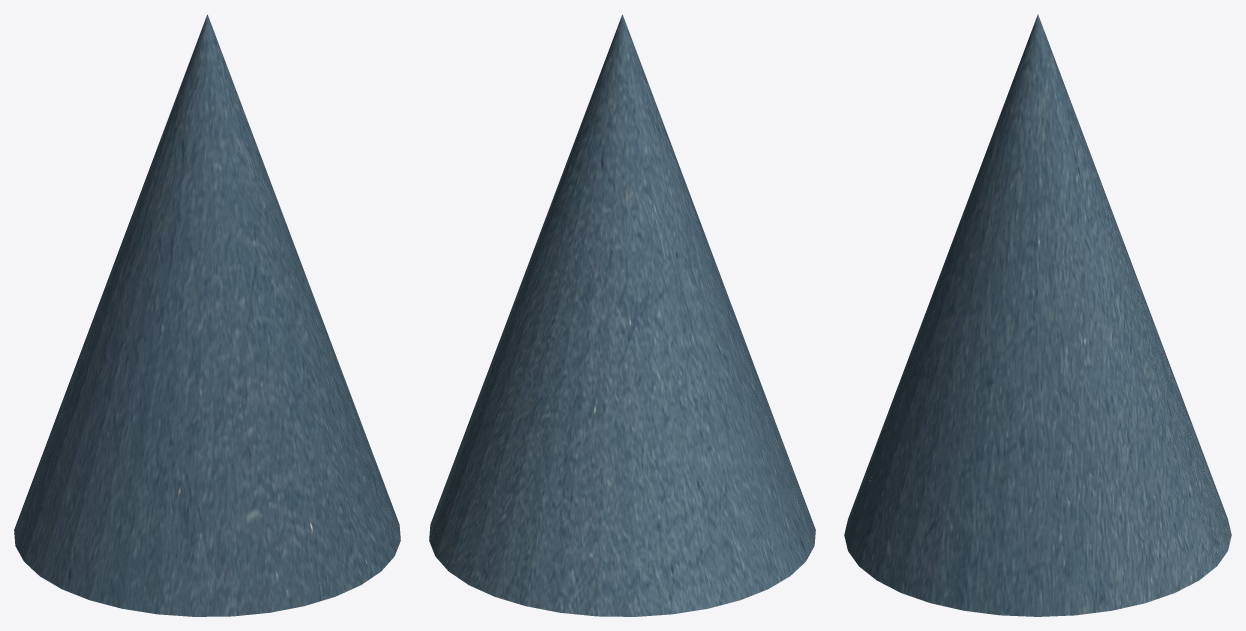
The model's file is cone_blue.dae.
3 renders of one model, left to right at view 1: azimuth 30°, elevation 25°; view 2: azimuth 150°, elevation 25°; view 3: azimuth 270°, elevation 25°, orthographic.
Visible parts, largest first — view 1: 锥体; view 2: 锥体; view 3: 锥体.
Part boxes in pixels (x1,y1,x2,y2): 锥体: [14, 14, 400, 616]; 锥体: [429, 14, 815, 616]; 锥体: [844, 14, 1231, 616].
Size of the model in its own units: 0.155 by 0.155 by 0.23.
